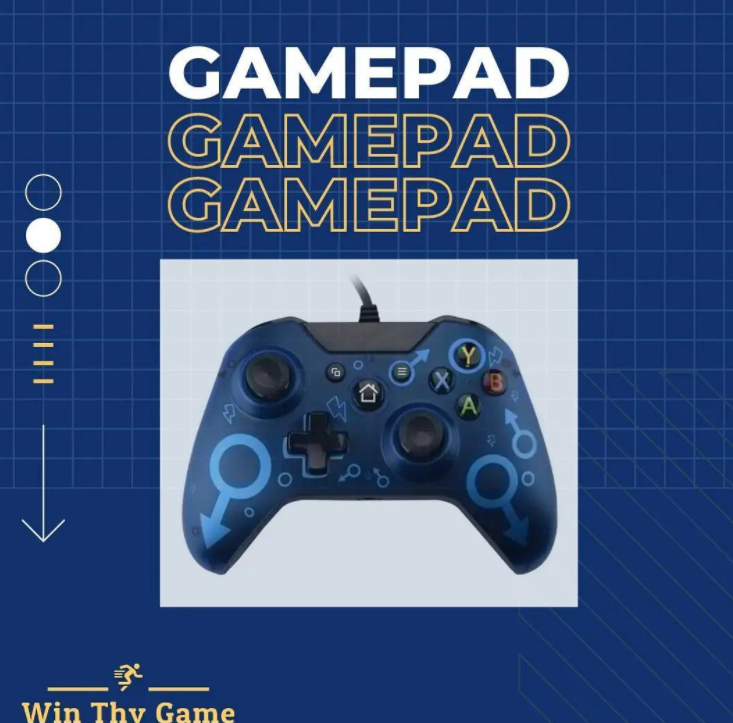gamingconsole: (182, 320, 557, 575)
